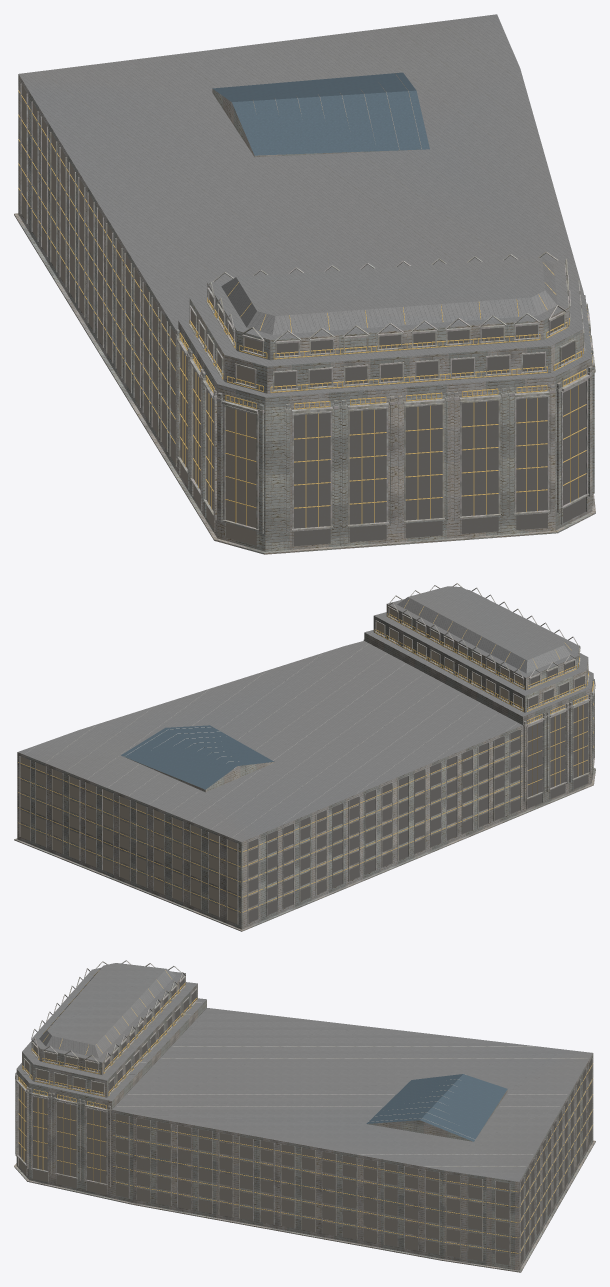
The model's file is la-samaritaine.glb.
3 views of the same model, one above another, from view 1: azimuth 30°, elevation 25°; view 2: azimuth 150°, elevation 25°; view 3: azimuth 270°, elevation 25° (orthographic). The views are drawn at different scales.
Parts seen in each view (by area): view 1: roof, stone, window, trim, glass, metal; view 2: roof, stone, window, trim, metal, glass; view 3: roof, stone, window, trim, glass, metal.
Boxes of the visible parts, x1,y1,x2,y2 form: roof: [19, 14, 591, 397]; stone: [14, 74, 595, 554]; window: [21, 84, 585, 546]; trim: [20, 17, 595, 530]; glass: [212, 72, 429, 155]; metal: [18, 90, 592, 527]; roof: [18, 586, 593, 842]; stone: [14, 604, 595, 931]; window: [20, 608, 592, 923]; trim: [19, 583, 595, 924]; metal: [18, 600, 593, 912]; glass: [121, 725, 273, 789]; roof: [16, 963, 592, 1181]; stone: [14, 973, 595, 1272]; window: [18, 979, 591, 1265]; trim: [15, 960, 592, 1265]; glass: [366, 1074, 507, 1141]; metal: [18, 970, 593, 1253].
Bounding box in the file's own units: 94.33 × 32 × 124.
Materials: 6 (6 with a texture image).
